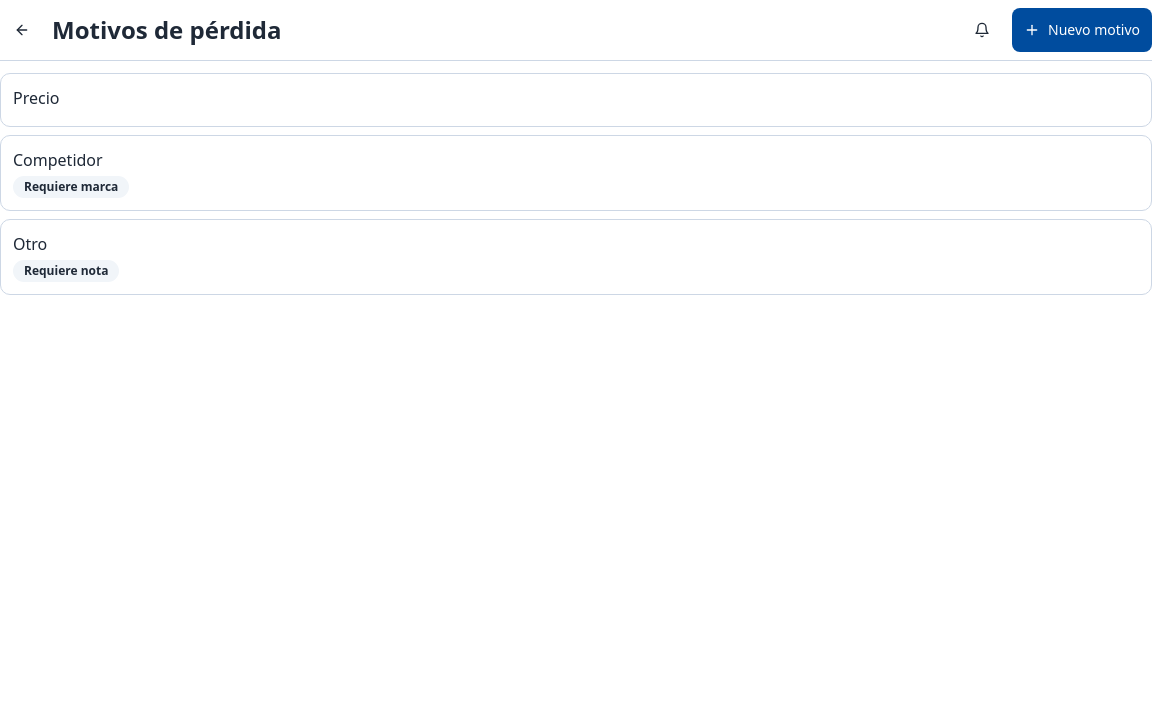
Test: LossReasonListPage › opens the edit form with read-only requirement badges
Click the button "Competidor Requiere marca" at (58, 160), box x1=0 y1=135 x2=1151 y2=211
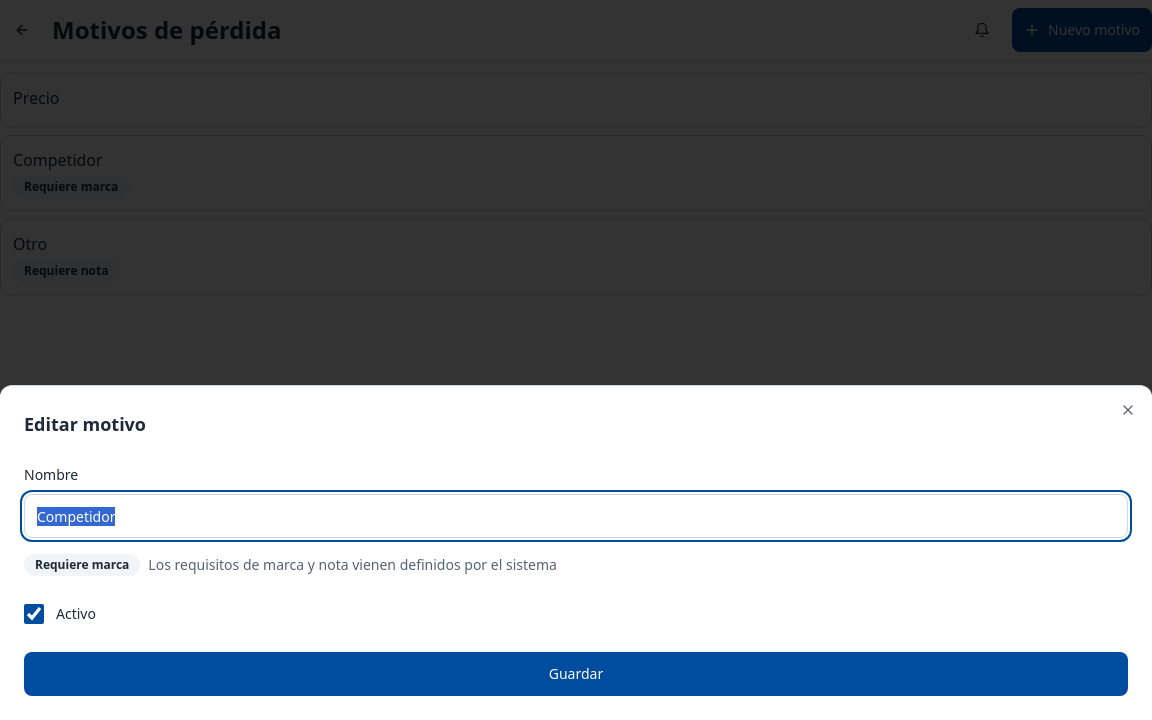
Result: the field labelled "Nombre" holds "Competidor" at x1=24 y1=494 x2=1128 y2=538
Result: the text "Requiere marca" is shown at x1=24 y1=554 x2=140 y2=576
